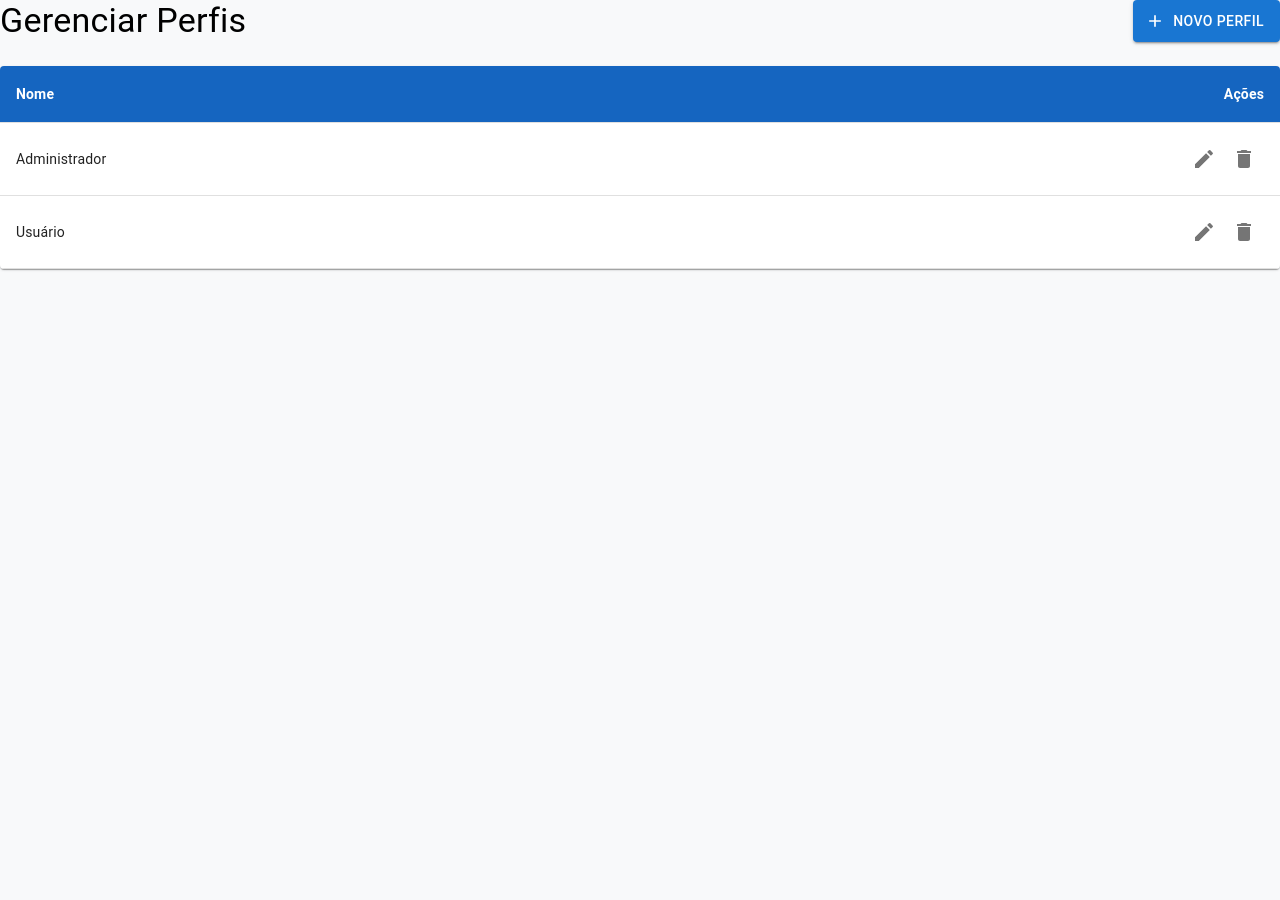
Test: ADMIN - Profiles CRUD › Edição de Perfil › deve atualizar um perfil com sucesso
Check: the text "Administrador" is shown, box [0, 122, 668, 196]
Click the 1st button with test id "edit-button" at (1204,159), box [1184, 139, 1224, 179]
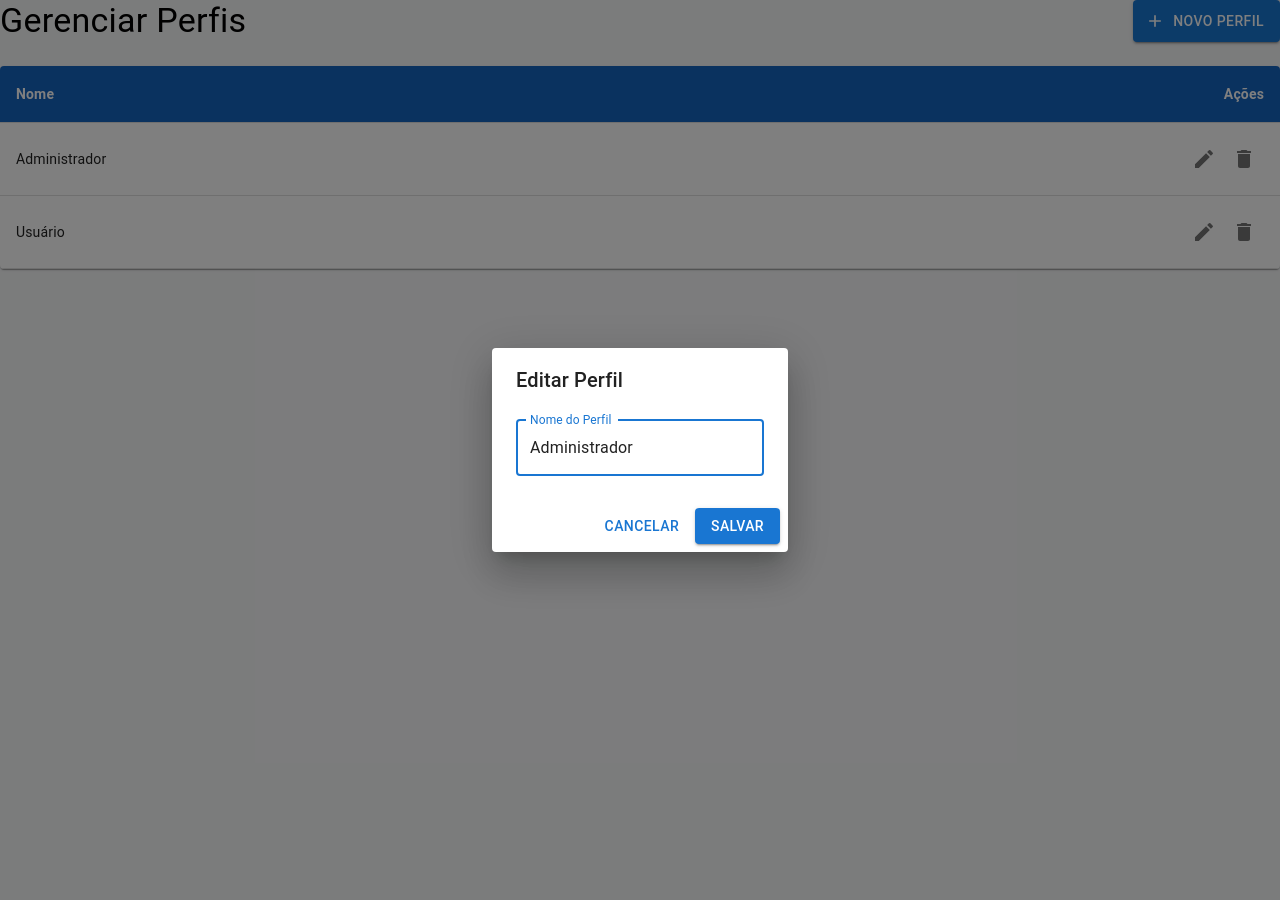
Replace the text in the field labelled "Nome do Perfil" with "Admin Editado" at (640,448), box [516, 420, 764, 476]
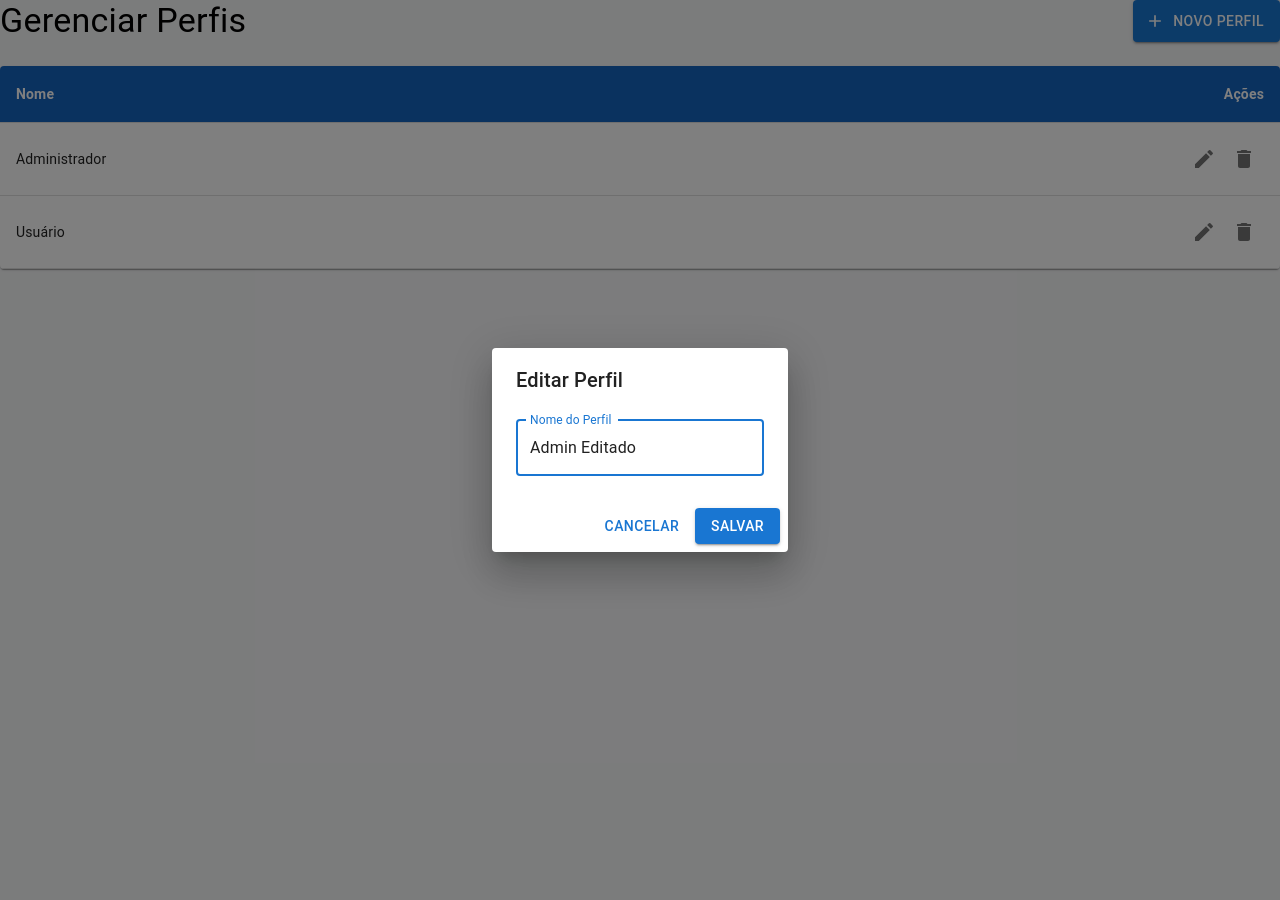
Click the button "Salvar" at (738,526), box [695, 508, 780, 544]
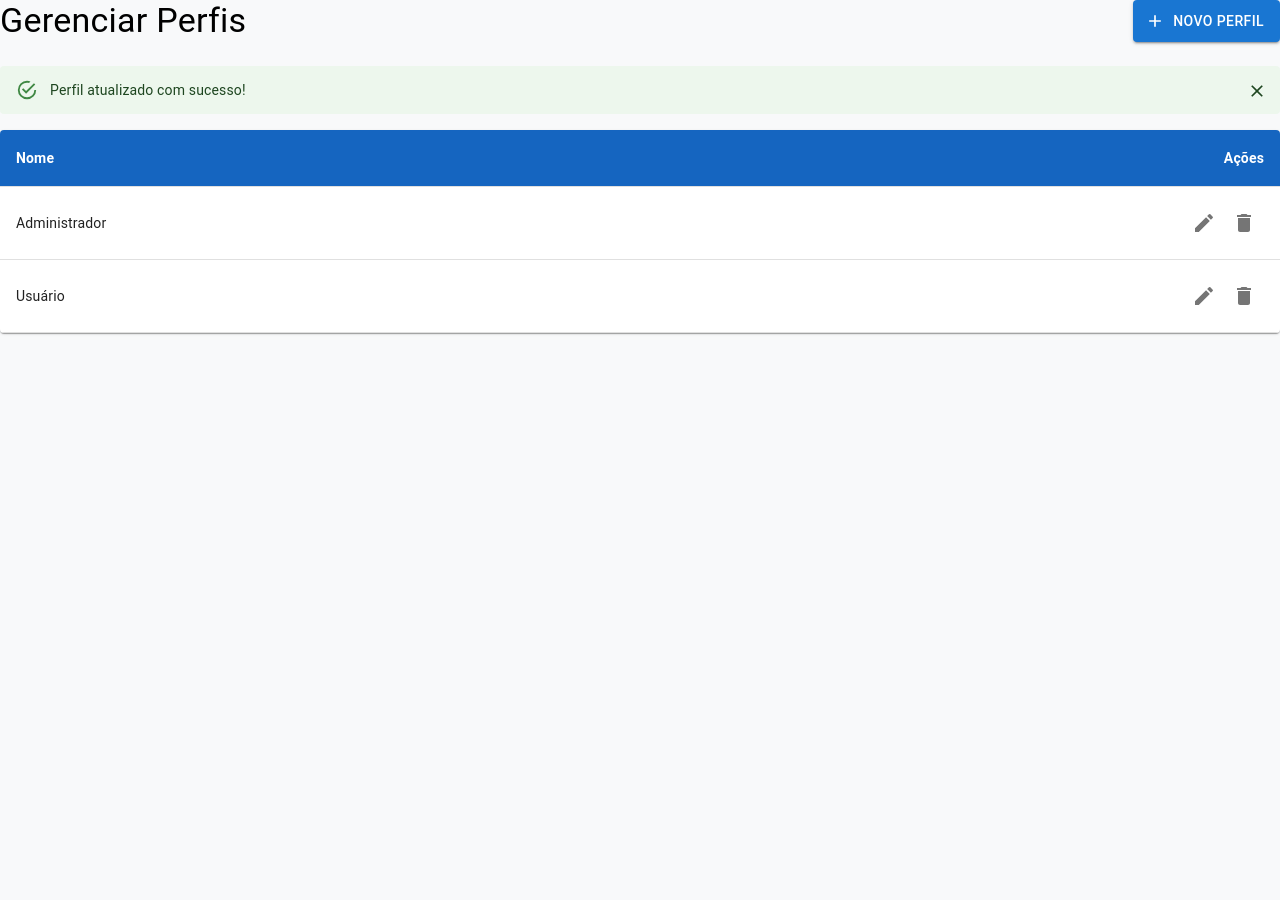
Check: the text "Perfil atualizado com sucesso!" is shown, box [50, 82, 246, 98]
